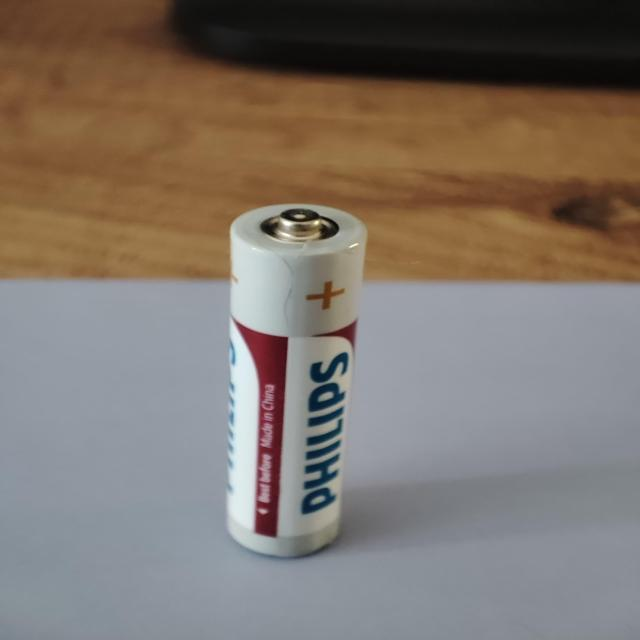AAA: (225, 203, 368, 558)
